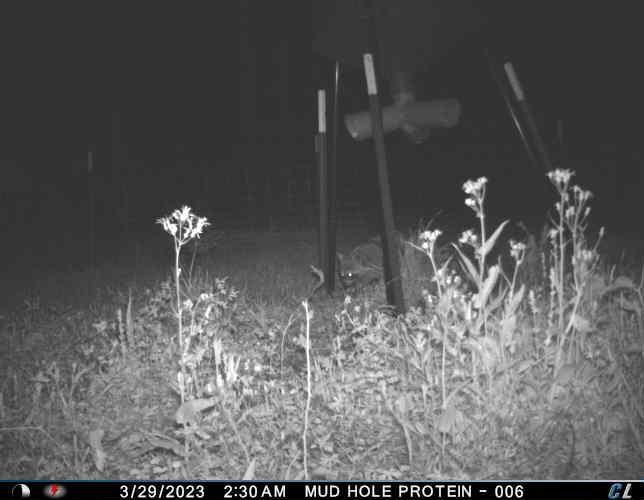Raccoon: (340, 231, 386, 299)
